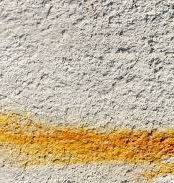Corrosion: (1, 111, 174, 165), (129, 165, 174, 183)
